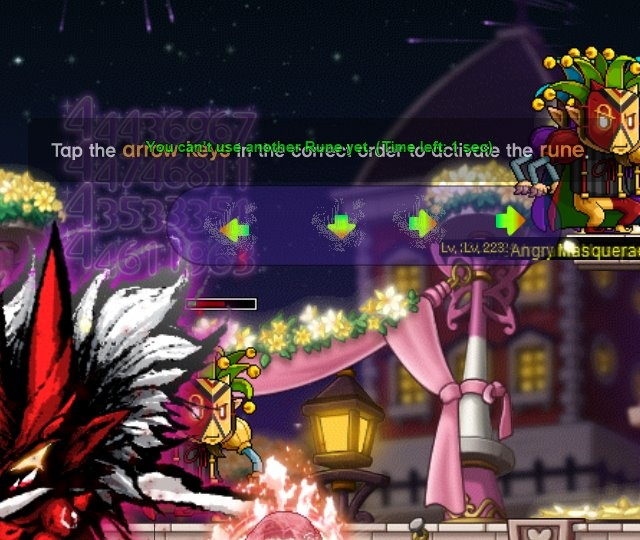rune_box: (156, 176, 571, 270)
